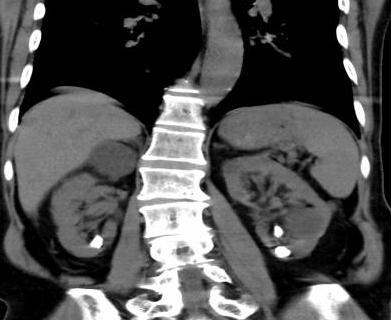Tas_Var: (272, 242, 293, 260), (89, 232, 106, 252), (271, 221, 285, 240)
